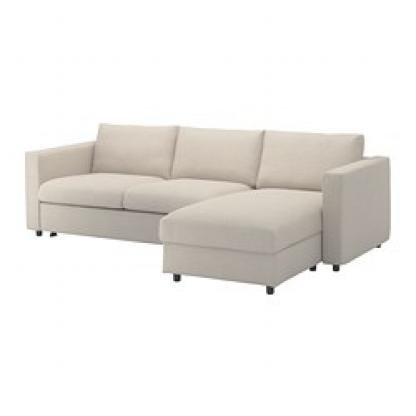Sofa: (17, 110, 391, 298)
